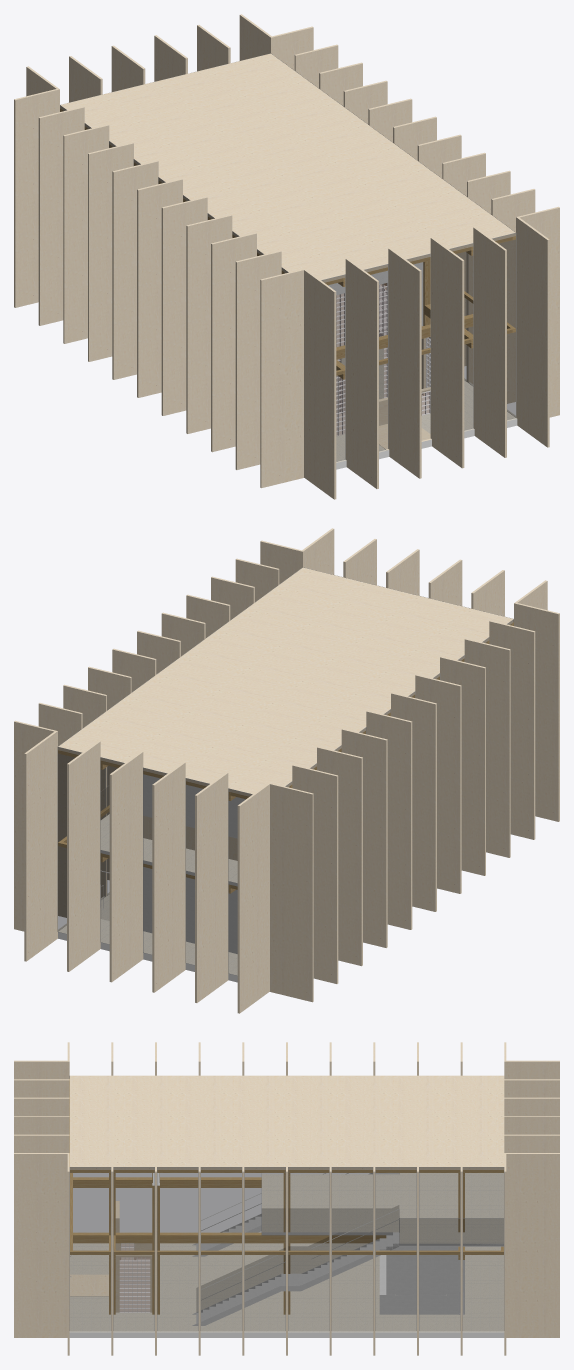
The model's file is PavilionK.glb.
The picture shows the model from 3 angles, top to bottom: view 1: azimuth 30°, elevation 25°; view 2: azimuth 150°, elevation 25°; view 3: azimuth 270°, elevation 25°; orthographic projection. The views are drawn at different scales.
Visible parts, largest first — view 1: _3DGeom1511121122, _3DGeom321516.008, _3DGeom321516.004, _3DGeom4910.005, _3DGeom4910.001, _3DGeom4910.004, _3DGeom4910, _3DGeom4910.002, _3DGeom321516.001, _3DGeom4910.003, _3DGeom321516.010, _3DGeom321516.003 (+14 smaller); view 2: _3DGeom1511121122, _3DGeom321516.006, _3DGeom321516.009, _3DGeom4910.005, _3DGeom4910.001, _3DGeom4910.004, _3DGeom4910, _3DGeom4910.002, _3DGeom4910.003, _3DGeom321516.007, _3DGeom321516.005, _3DGeom321516.002 (+17 smaller); view 3: _3DGeom1511121122, _3DGeom1690305306, _3DGeom4910.002, _3DGeom1116465, _3DGeom7366367.026, _3DGeom7366367.009, _3DGeom7366367.001, _3DGeom7366367.022, _3DGeom7366367.019, _3DGeom7366367.013, _3DGeom7366367, _3DGeom7366367.023 (+59 smaller).
Boxes of the visible parts, <box> form: _3DGeom1511121122: <box>60,53,515,282</box>; _3DGeom321516.008: <box>260,206,559,488</box>; _3DGeom321516.004: <box>235,189,535,469</box>; _3DGeom4910.005: <box>154,35,464,468</box>; _3DGeom4910.001: <box>111,45,421,478</box>; _3DGeom4910.004: <box>69,56,378,488</box>; _3DGeom4910: <box>197,25,506,457</box>; _3DGeom4910.002: <box>239,14,549,447</box>; _3DGeom321516.001: <box>211,170,510,452</box>; _3DGeom4910.003: <box>26,66,336,499</box>; _3DGeom321516.010: <box>186,152,485,433</box>; _3DGeom321516.003: <box>161,134,461,415</box>; _3DGeom1511121122: <box>58,567,513,796</box>; _3DGeom321516.006: <box>14,720,313,1002</box>; _3DGeom321516.009: <box>38,703,338,983</box>; _3DGeom4910.005: <box>109,549,419,982</box>; _3DGeom4910.001: <box>152,559,462,992</box>; _3DGeom4910.004: <box>195,570,504,1002</box>; _3DGeom4910: <box>67,539,376,971</box>; _3DGeom4910.002: <box>24,528,334,961</box>; _3DGeom4910.003: <box>237,580,547,1013</box>; _3DGeom321516.007: <box>63,684,362,966</box>; _3DGeom321516.005: <box>88,666,387,947</box>; _3DGeom321516.002: <box>112,648,412,929</box>; _3DGeom1511121122: <box>70,1075,504,1169</box>; _3DGeom1690305306: <box>69,1243,504,1332</box>; _3DGeom4910.002: <box>14,1153,559,1337</box>; _3DGeom1116465: <box>262,1173,503,1243</box>; _3DGeom7366367.026: <box>201,1167,241,1330</box>; _3DGeom7366367.009: <box>332,1167,372,1330</box>; _3DGeom7366367.001: <box>70,1167,110,1330</box>; _3DGeom7366367.022: <box>463,1167,503,1330</box>; _3DGeom7366367.019: <box>114,1167,154,1330</box>; _3DGeom7366367.013: <box>419,1167,459,1330</box>; _3DGeom7366367: <box>288,1167,328,1330</box>; _3DGeom7366367.023: <box>157,1167,197,1330</box>.
Bounding box in the file's own units: 14 × 9.31 × 25.
Materials: 391 (223 with a texture image).
